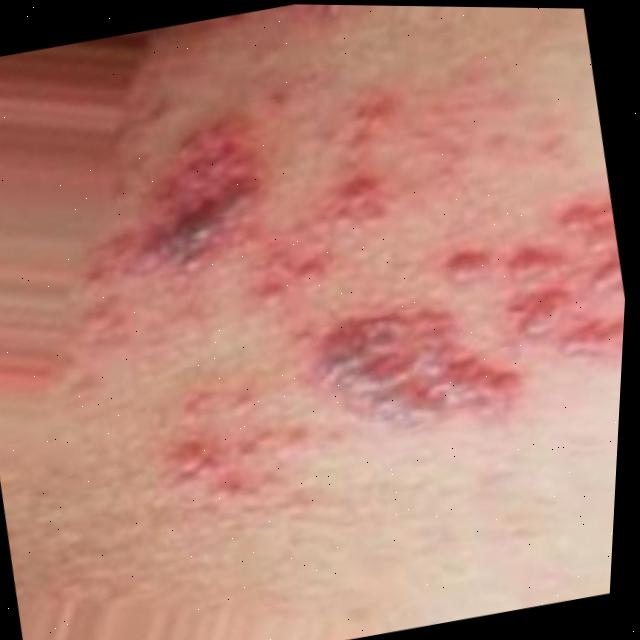Shingles: (83, 49, 638, 540)
